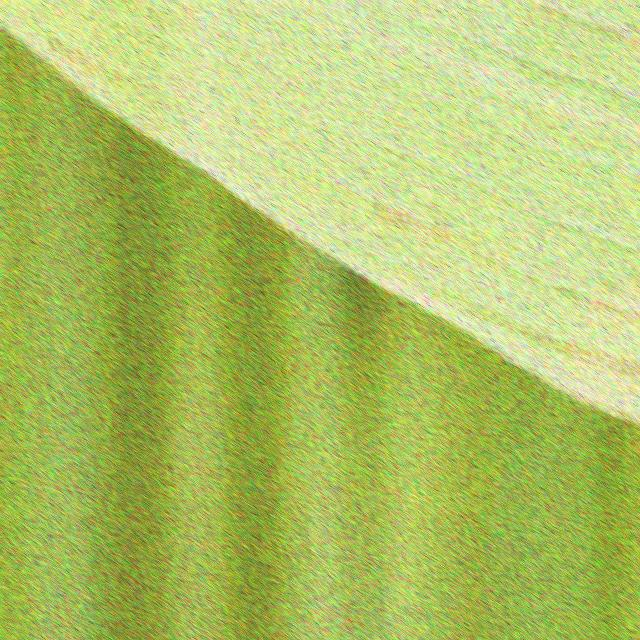BLS: (424, 289, 640, 382), (45, 31, 178, 92), (502, 0, 640, 47), (370, 201, 459, 247), (551, 284, 640, 324), (597, 280, 640, 298)
